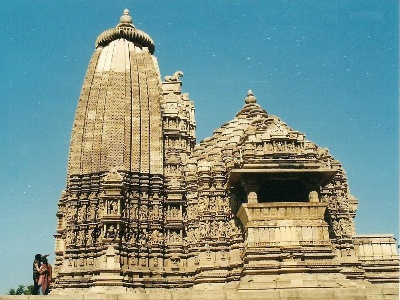amalaka: (89, 22, 164, 52)
gopuram: (59, 40, 175, 180)
mandapa: (212, 154, 352, 223)
